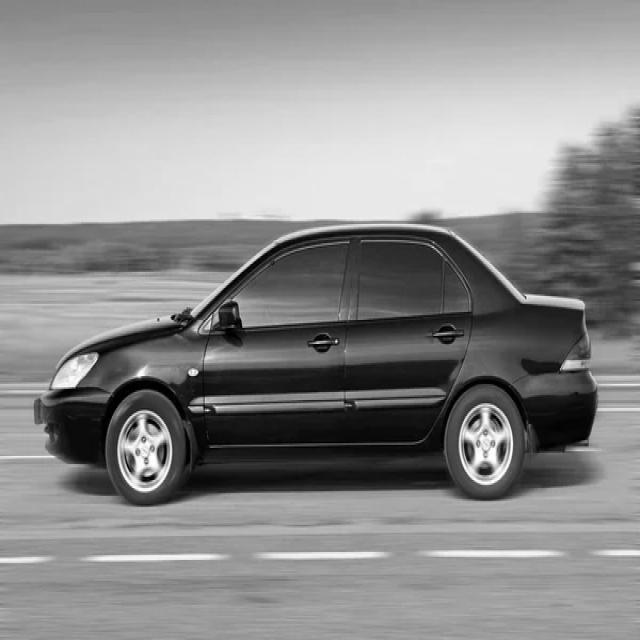Car: (34, 226, 601, 504)
